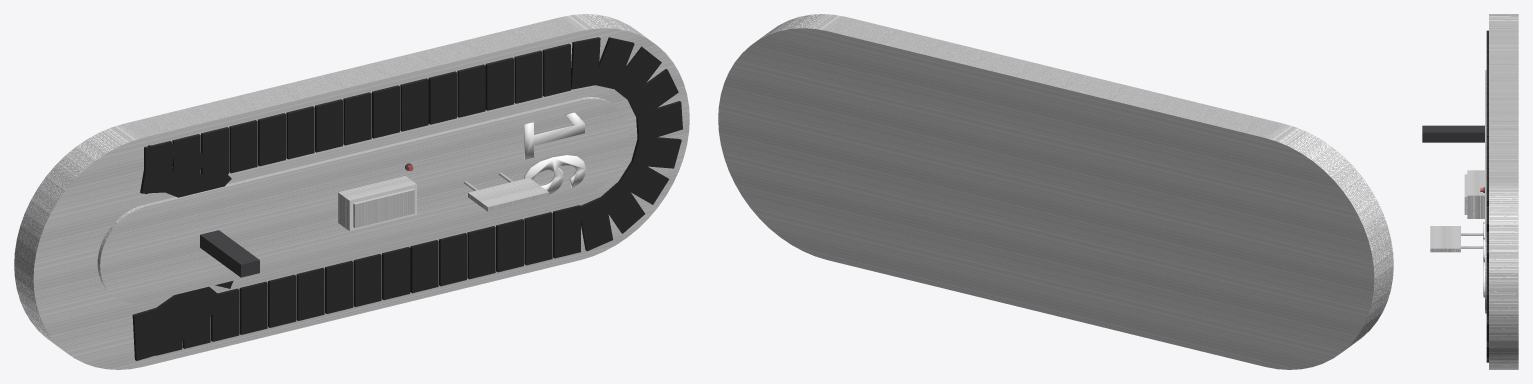
The model's file is Đảo nhận hành lý 16.glb.
The picture shows the model from 3 angles, left to right: view 1: azimuth 30°, elevation 25°; view 2: azimuth 150°, elevation 25°; view 3: azimuth 270°, elevation 25°; orthographic projection. The views are drawn at different scales.
Visible parts, largest first — view 1: conveyor_belt, frame, center_platform, service_box, number_node_16, information_screen_frame, number_sign_body; view 2: frame; view 3: frame, number_sign_body, conveyor_belt, service_box, information_screen_frame, center_platform, number_node_16.
Boxes of the visible parts, left/top/right/bottom form: conveyor_belt: left=132, top=37, right=682, bottom=360; frame: left=14, top=14, right=689, bottom=369; center_platform: left=97, top=97, right=628, bottom=303; service_box: left=338, top=176, right=416, bottom=231; number_node_16: left=524, top=112, right=585, bottom=194; information_screen_frame: left=464, top=172, right=549, bottom=211; number_sign_body: left=200, top=230, right=259, bottom=277; frame: left=718, top=14, right=1393, bottom=369; frame: left=1489, top=14, right=1518, bottom=369; number_sign_body: left=1422, top=125, right=1484, bottom=142; conveyor_belt: left=1486, top=30, right=1488, bottom=362; service_box: left=1464, top=170, right=1484, bottom=218; information_screen_frame: left=1430, top=226, right=1483, bottom=252; center_platform: left=1485, top=70, right=1486, bottom=313; number_node_16: left=1483, top=222, right=1484, bottom=297.
Size of the model in its own units: 18 by 6 by 3.
8 materials, 7 textured.
